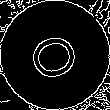O_E: (24, 26, 86, 84)
